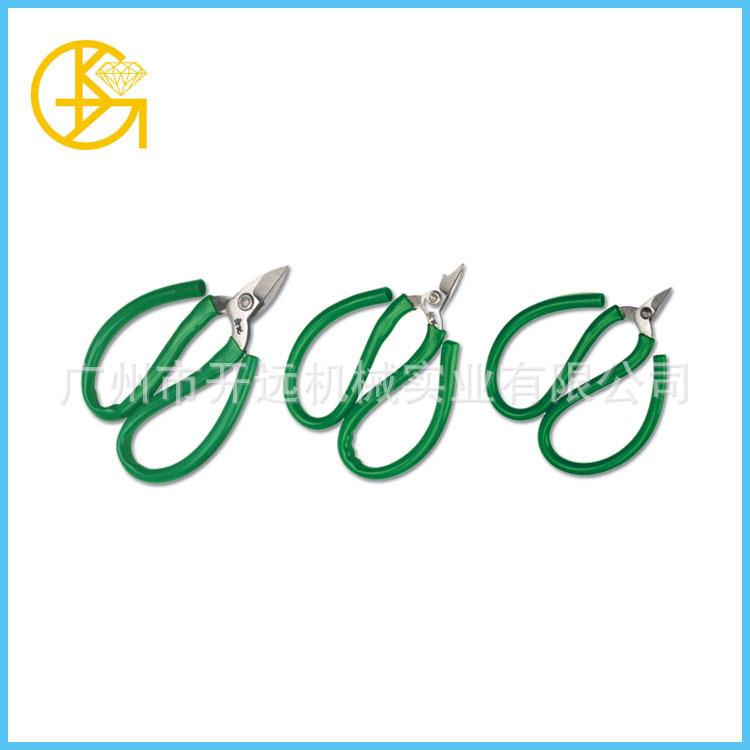scissor: (78, 204, 698, 519)
